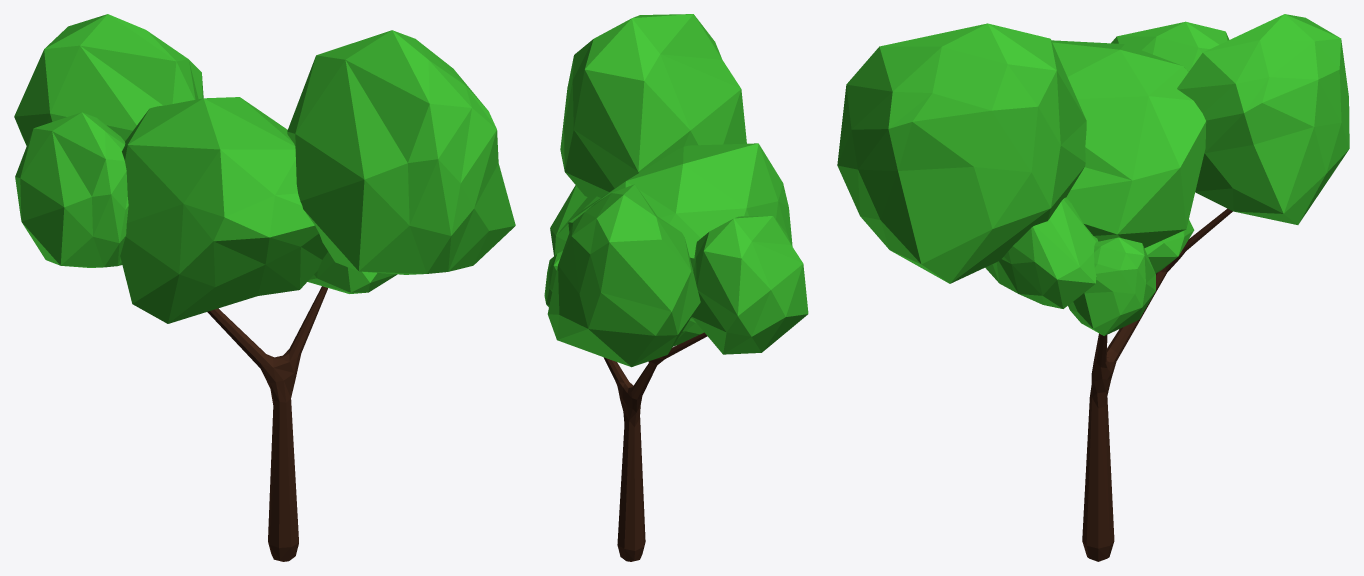
File: lowPolyTree.fbx
3 renders of one model, left to right at view 1: azimuth 30°, elevation 25°; view 2: azimuth 150°, elevation 25°; view 3: azimuth 270°, elevation 25°, orthographic. The views are drawn at different scales.
Parts seen in each view (by area): view 1: Icosphere, Icosphere.004, Icosphere.003, Icosphere.001, Cube, Icosphere.008; view 2: Icosphere, Icosphere.003, Icosphere.001, Icosphere.004, Cube, Icosphere.008, Icosphere.002, Icosphere.006; view 3: Icosphere, Icosphere.003, Icosphere.004, Icosphere.008, Cube, Icosphere.002, Icosphere.001, Icosphere.006.
Part boxes in pixels (x1=…): Icosphere: x1=287, y1=30, x2=515, y2=274; Icosphere.004: x1=120, y1=97, x2=327, y2=323; Icosphere.003: x1=14, y1=14, x2=203, y2=145; Icosphere.001: x1=15, y1=112, x2=128, y2=267; Cube: x1=207, y1=286, x2=327, y2=561; Icosphere.008: x1=307, y1=251, x2=397, y2=293; Icosphere: x1=560, y1=14, x2=746, y2=197; Icosphere.003: x1=547, y1=184, x2=700, y2=367; Icosphere.001: x1=692, y1=216, x2=808, y2=354; Icosphere.004: x1=568, y1=143, x2=792, y2=322; Cube: x1=603, y1=332, x2=707, y2=561; Icosphere.008: x1=550, y1=185, x2=600, y2=255; Icosphere.002: x1=544, y1=251, x2=562, y2=307; Icosphere.006: x1=673, y1=320, x2=704, y2=346; Icosphere: x1=837, y1=23, x2=1086, y2=283; Icosphere.003: x1=1177, y1=14, x2=1349, y2=224; Icosphere.004: x1=1051, y1=40, x2=1206, y2=248; Icosphere.008: x1=985, y1=197, x2=1098, y2=308; Cube: x1=1082, y1=208, x2=1232, y2=561; Icosphere.002: x1=1068, y1=237, x2=1155, y2=335; Icosphere.001: x1=1111, y1=21, x2=1229, y2=71; Icosphere.006: x1=1144, y1=219, x2=1194, y2=273.
Bounding box in the file's own units: 557 × 820 × 673.
